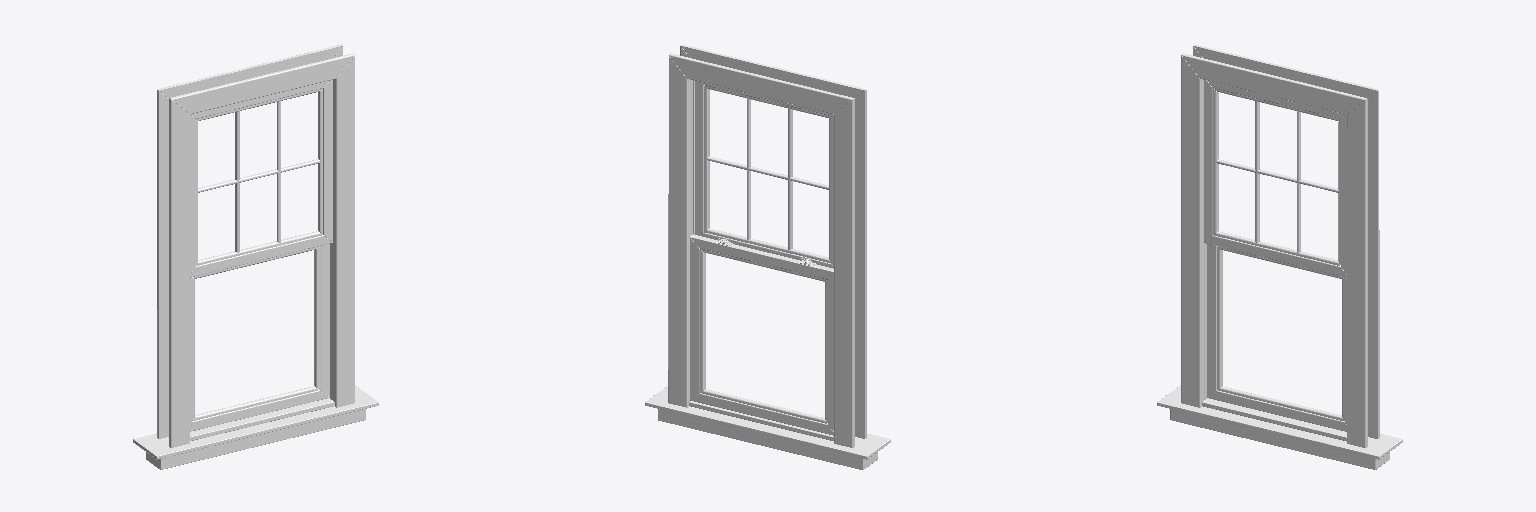
File: janela.obj
3 views of the same model, side by side, from view 1: azimuth 30°, elevation 25°; view 2: azimuth 150°, elevation 25°; view 3: azimuth 330°, elevation 25° (orthographic).
Parts seen in each view (by area): view 1: janela; view 2: janela; view 3: janela.
Part boxes in pixels (x1,y1,x2,y2): janela: (133,44,378,469); janela: (645,45,890,469); janela: (1157,45,1402,469).
Bounding box in the file's own units: 1049 × 1660 × 196.